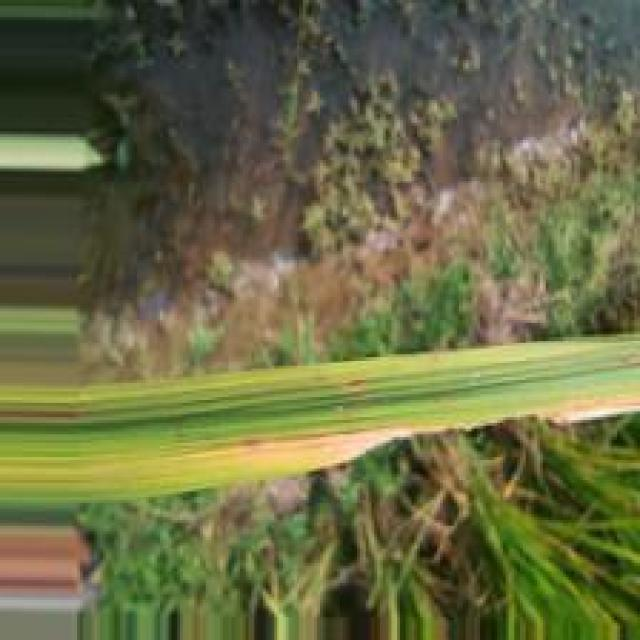Bacterial_Leaf_Blight: (238, 422, 403, 464), (537, 396, 638, 424)
